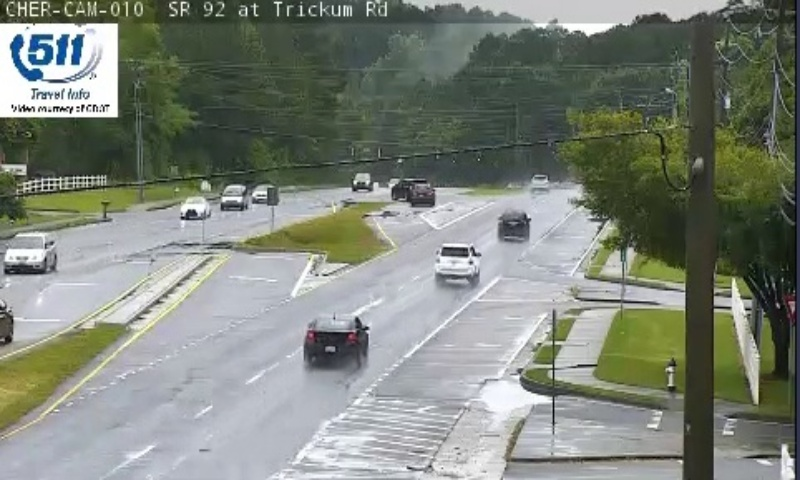car: (303, 315, 368, 359), (434, 243, 479, 281), (497, 211, 529, 241)
